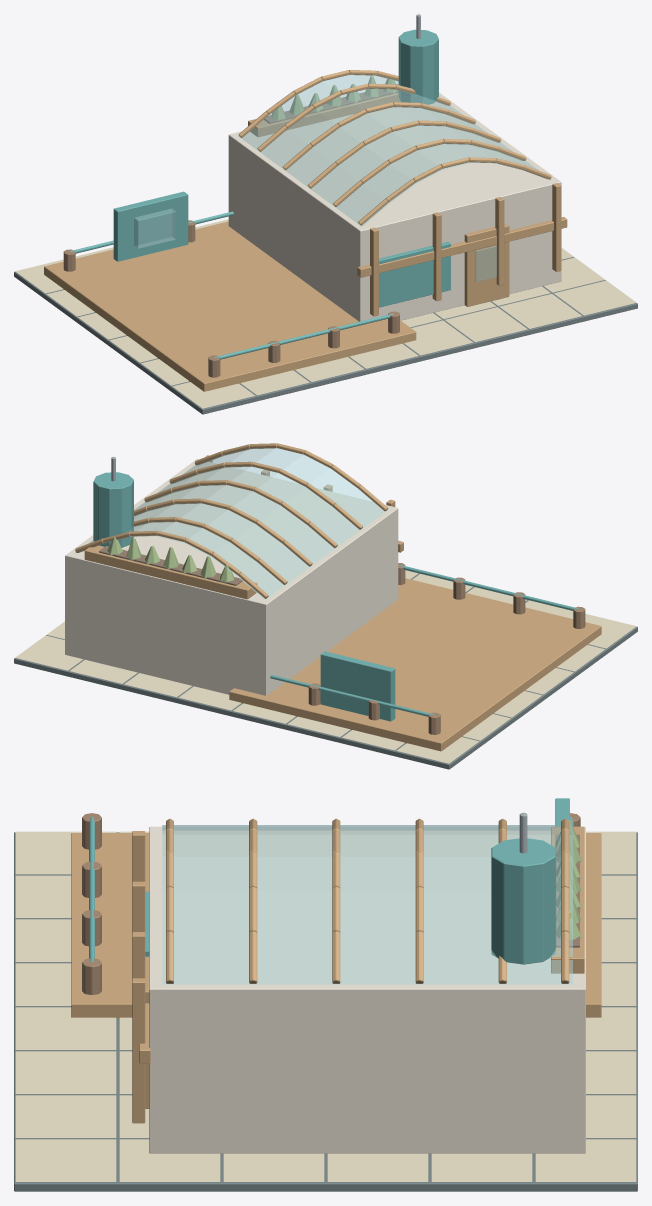
Rendered from b01-ferry-terminal.glb.
3 views of the same model, one above another, from view 1: azimuth 30°, elevation 25°; view 2: azimuth 150°, elevation 25°; view 3: azimuth 270°, elevation 25° (orthographic). The views are drawn at different scales.
Parts seen in each view (by area): view 1: MM_STR_B01_FERRY_TERMINAL_A_LOD0; view 2: MM_STR_B01_FERRY_TERMINAL_A_LOD0; view 3: MM_STR_B01_FERRY_TERMINAL_A_LOD0.
Boxes of the visible parts, bbox=[...] form: MM_STR_B01_FERRY_TERMINAL_A_LOD0: bbox=[14, 14, 637, 414]; MM_STR_B01_FERRY_TERMINAL_A_LOD0: bbox=[14, 443, 637, 769]; MM_STR_B01_FERRY_TERMINAL_A_LOD0: bbox=[14, 798, 637, 1191].
Size of the model in its own units: 16 by 6.9 by 12.
